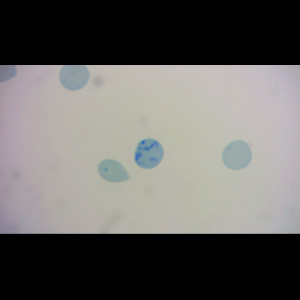aggregate reticulocyte: (134, 138, 165, 170)
erythrocyte: (97, 158, 132, 184)
punctate reticulocyte: (221, 139, 253, 171), (58, 65, 92, 92)
